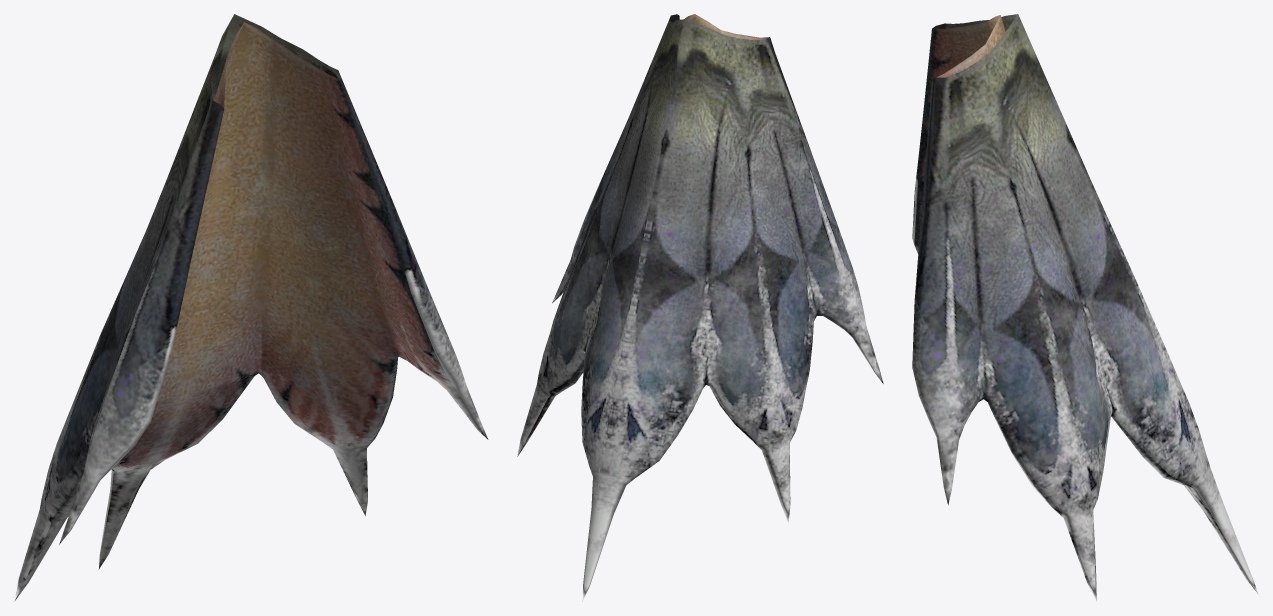
The model's file is hbg011.obj.
3 views of the same model, side by side, from view 1: azimuth 30°, elevation 25°; view 2: azimuth 150°, elevation 25°; view 3: azimuth 270°, elevation 25° (orthographic). The views are drawn at different scales.
Visible parts, largest first — view 1: hbg011_012_LOD_65535; view 2: hbg011_012_LOD_65535; view 3: hbg011_012_LOD_65535.
Part boxes in pixels (<box>): hbg011_012_LOD_65535: <box>14,14,488,601</box>; hbg011_012_LOD_65535: <box>517,14,883,601</box>; hbg011_012_LOD_65535: <box>912,14,1258,601</box>.
Size of what is drawn, in the model's own units: 36.99 by 53.92 by 29.16.
